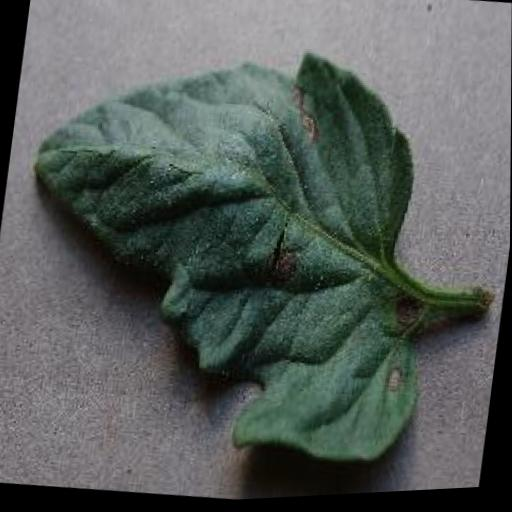Early Blight: (0, 18, 512, 496)
